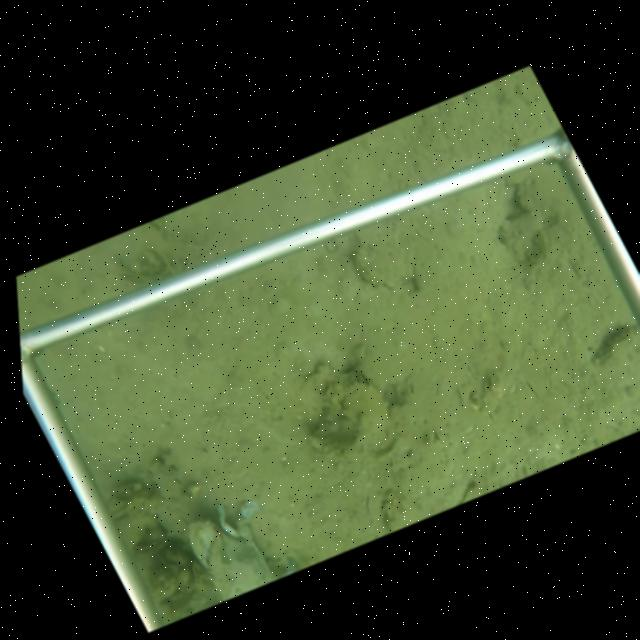Oyster-Closed: (586, 325, 640, 364)
Oyster-Indeterminate: (312, 379, 391, 449), (351, 214, 420, 289)
